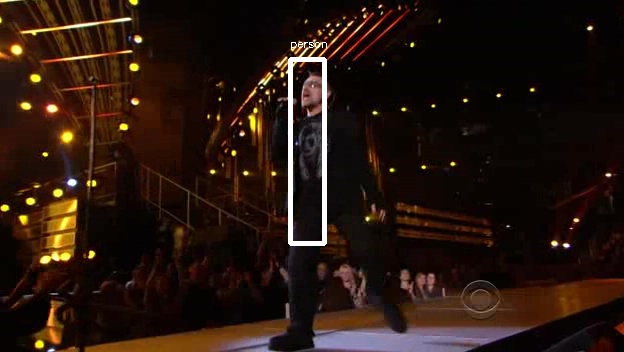person: (278, 72, 366, 249), (275, 72, 363, 249), (281, 72, 369, 249), (278, 69, 366, 246), (278, 75, 366, 252)
target_negative: (77, 58, 594, 325), (148, 224, 231, 337), (422, 107, 482, 163), (185, 236, 489, 245), (556, 89, 567, 320), (582, 291, 608, 323)
